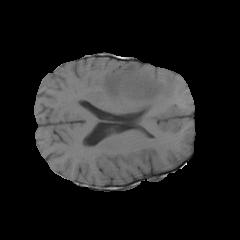glioma: (101, 63, 177, 112)
